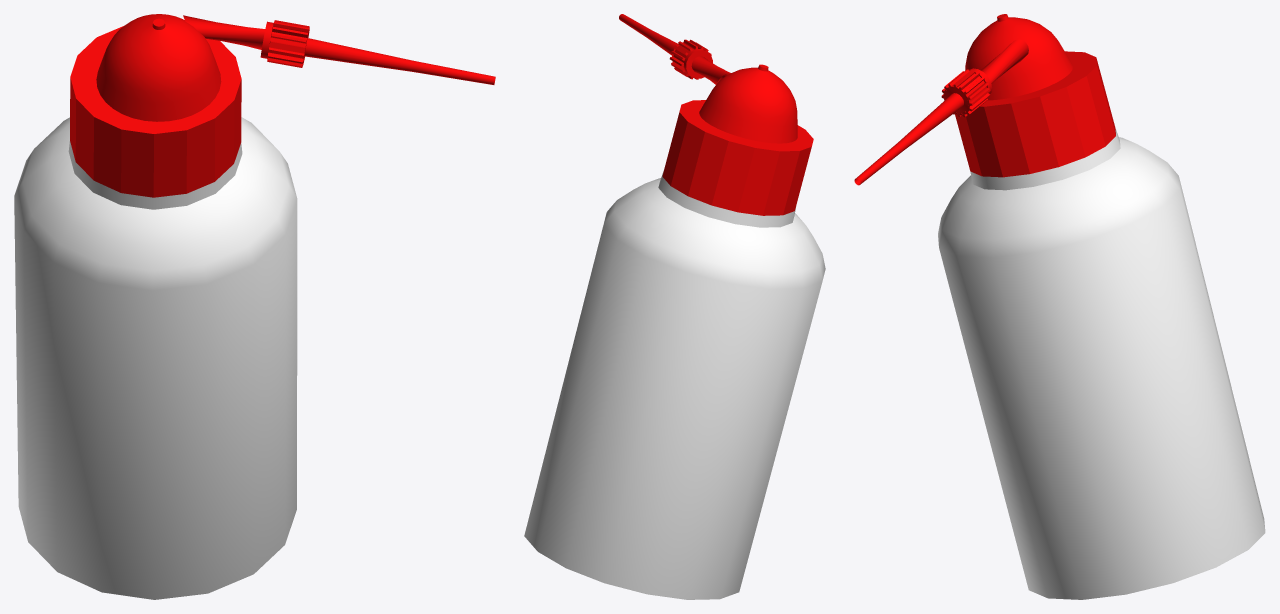
3 views of the same model, side by side, from view 1: azimuth 30°, elevation 25°; view 2: azimuth 150°, elevation 25°; view 3: azimuth 270°, elevation 25° (orthographic). The views are drawn at different scales.
Visible parts, largest first — view 1: Line005, 对象001, Line002, Line004; view 2: Line005, 对象001, Line002, Line004; view 3: Line005, 对象001, Line002, Line004.
Boxes of the visible parts, bbox=[...] form: Line005: bbox=[14, 117, 297, 599]; 对象001: bbox=[70, 25, 241, 197]; Line002: bbox=[96, 14, 221, 121]; Line004: bbox=[183, 15, 495, 84]; Line005: bbox=[524, 170, 825, 599]; 对象001: bbox=[662, 100, 813, 215]; Line002: bbox=[699, 64, 797, 143]; Line004: bbox=[619, 14, 730, 84]; Line005: bbox=[938, 128, 1265, 599]; 对象001: bbox=[955, 51, 1115, 177]; Line002: bbox=[965, 14, 1072, 100]; Line004: bbox=[854, 39, 1028, 185].
Size of the model in its own units: 449 by 739 by 513.
